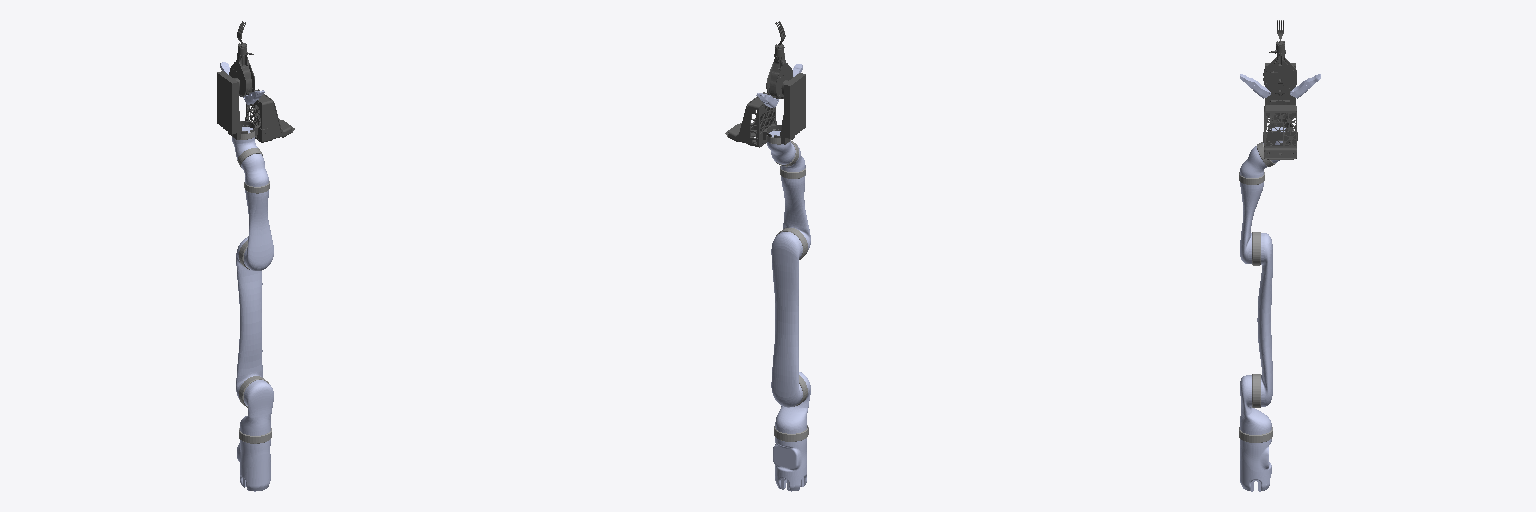
--- What the picture shows (computed from the rendered views, not written in the file) ---
Views: 3 orthographic renders of the robot side by side, from view 1: azimuth 30°, elevation 25°; view 2: azimuth 150°, elevation 25°; view 3: azimuth 270°, elevation 25°.
Robot: ada — 29 links, 28 joints (4 revolute, 4 continuous, 20 fixed); root link root; default pose: joints at zero except 2 at the middle of their limits (j2n6s200_joint_2 = 3.14, j2n6s200_joint_3 = 3.14).
Links seen in each view (by area): view 1: j2n6s200_link_2, j2n6s200_link_3, j2n6s200_link_1, j2n6s200_link_base, FT, j2n6s200_link_4, enclosureBottom, forkHandle; view 2: j2n6s200_link_2, j2n6s200_link_base, j2n6s200_link_3, FT, j2n6s200_link_1, forkHandle, enclosureTop, j2n6s200_link_5; view 3: j2n6s200_link_2, j2n6s200_link_base, j2n6s200_link_1, j2n6s200_link_3, forkHandle, j2n6s200_link_4, enclosureBottom.
Link boxes in pixels (x1,y1,x2,y2): j2n6s200_link_2: (236, 237, 268, 407); j2n6s200_link_3: (239, 190, 273, 270); j2n6s200_link_1: (239, 380, 273, 443); j2n6s200_link_base: (237, 439, 270, 491); FT: (217, 71, 238, 133); j2n6s200_link_4: (241, 154, 269, 193); enclosureBottom: (246, 90, 272, 142); forkHandle: (229, 53, 254, 96); j2n6s200_link_2: (771, 232, 807, 407); j2n6s200_link_base: (773, 437, 806, 491); j2n6s200_link_3: (776, 175, 810, 259); FT: (784, 73, 805, 138); j2n6s200_link_1: (774, 372, 810, 441); forkHandle: (766, 53, 792, 98); enclosureTop: (737, 92, 771, 144); j2n6s200_link_5: (767, 131, 798, 166); j2n6s200_link_2: (1252, 233, 1272, 407); j2n6s200_link_base: (1240, 439, 1271, 491); j2n6s200_link_1: (1239, 375, 1272, 442); j2n6s200_link_3: (1240, 182, 1263, 265); forkHandle: (1263, 50, 1296, 95); j2n6s200_link_4: (1239, 146, 1266, 184); enclosureBottom: (1264, 105, 1296, 145).
Bounding box of the posed robot: 0.2007 × 0.215 × 1.34 m (x, y, z).
26 mesh visuals loaded from 22 distinct referenced files (10 binary STL, 9 Collada DAE); not drawn: 3 (reference not matched to a file when rendering).

robot.urdf — ada:
<?xml version="1.0" ?>
<!-- =================================================================================== -->
<!-- |    This document was autogenerated by xacro from [local-path]/Workspace/cal_ws/src/ada_ros2/ada_description/urdf/ada.xacro | -->
<!-- |    EDITING THIS FILE BY HAND IS NOT RECOMMENDED                                 | -->
<!-- =================================================================================== -->
<robot name="ada" xmlns:body="http://playerstage.sourceforge.net/gazebo/xmlschema/#body" xmlns:controller="http://playerstage.sourceforge.net/gazebo/xmlschema/#controller" xmlns:gazebo="http://playerstage.sourceforge.net/gazebo/xmlschema/#gz" xmlns:geom="http://playerstage.sourceforge.net/gazebo/xmlschema/#geom" xmlns:interface="http://playerstage.sourceforge.net/gazebo/xmlschema/#interface" xmlns:joint="http://playerstage.sourceforge.net/gazebo/xmlschema/#joint" xmlns:model="http://playerstage.sourceforge.net/gazebo/xmlschema/#model" xmlns:physics="http://playerstage.sourceforge.net/gazebo/xmlschema/#physics" xmlns:renderable="http://playerstage.sourceforge.net/gazebo/xmlschema/#renderable" xmlns:rendering="http://playerstage.sourceforge.net/gazebo/xmlschema/#rendering" xmlns:sensor="http://playerstage.sourceforge.net/gazebo/xmlschema/#sensor" xmlns:xi="http://www.w3.org/2001/XInclude">
    <material name="aluminum">
        <color rgba="0.4 0.4 0.4 1" />
    </material>
    <material name="plastic">
        <color rgba="0.1 0.1 0.1 1" />
    </material>
    <!-- links      		mesh_no
   base           		0
   shoulder       		1
   arm            		2
   forearm        		3
   wrist          		4
   arm_mico       		5
   arm_half1 (7dof)		6
   arm_half2 (7dof)		7
   wrist_spherical_1  8
   wrist_spherical_2  9

   hand 3 finger  		55
   hand_2finger   		56
   finger_proximal		57
   finger_distal      58
-->
    <!-- links      		mesh_no
   base           		0
   shoulder       		1
   arm            		2
   forearm        		3
   wrist          		4
   arm_mico       		5
   arm_half1 (7dof)		6
   arm_half2 (7dof)		7
   wrist_spherical_1  8
   wrist_spherical_2  9

   hand 3 finger  		55
   hand_2finger   		56
   finger_proximal		57
   finger_distal      58
-->
    <link name="root" />
    <!-- ros_control plugin -->
    <gazebo>
        <plugin filename="libgazebo_ros_control.so" name="gazebo_ros_control">
            <robotNamespace>j2n6s200</robotNamespace>
            <robotSimType>gazebo_ros_control/DefaultRobotHWSim</robotSimType>
            <legacyModeNS>true</legacyModeNS>
        </plugin>
    </gazebo>
    <link name="j2n6s200_link_base">
        <visual>
            <geometry>
                <mesh filename="package://ada_description/meshes/base.dae" />
            </geometry>
            <material name="carbon_fiber">
                <color rgba="0.792156862745098 0.819607843137255 0.933333333333333 1" />
            </material>
        </visual>
        <collision>
            <geometry>
                <mesh filename="package://ada_description/meshes/base.dae" />
            </geometry>
        </collision>
        <inertial>
            <mass value="0.46784" />
            <origin rpy="0 0 0" xyz="0 0 0.1255" />
            <inertia ixx="0.000951270861568" ixy="0" ixz="0" iyy="0.000951270861568" iyz="0" izz="0.00037427200000000004" />
        </inertial>
    </link>
    <joint name="j2n6s200_joint_base" type="fixed">
        <parent link="root" />
        <child link="j2n6s200_link_base" />
        <axis xyz="0 0 0" />
        <origin rpy="0 0 0" xyz="0 0 0" />
        <dynamics damping="0.0" friction="0.0" />
    </joint>
    <link name="j2n6s200_link_1">
        <visual>
            <geometry>
                <mesh filename="package://ada_description/meshes/shoulder.dae" />
            </geometry>
            <material name="carbon_fiber">
                <color rgba="0.792156862745098 0.819607843137255 0.933333333333333 1" />
            </material>
        </visual>
        <visual>
            <geometry>
                <mesh filename="package://ada_description/meshes/ring_big.dae" />
            </geometry>
        </visual>
        <collision>
            <geometry>
                <mesh filename="package://ada_description/meshes/shoulder.dae" />
            </geometry>
        </collision>
        <inertial>
            <mass value="0.7477" />
            <origin xyz="0 -0.002 -0.0605" rpy="0 0 0" />
            <inertia ixx="0.0015203172520400004" ixy="0" ixz="0" iyy="0.0015203172520400004" iyz="0" izz="0.00059816" />
        </inertial>
    </link>
    <joint name="j2n6s200_joint_1" type="continuous">
        <parent link="j2n6s200_link_base" />
        <child link="j2n6s200_link_1" />
        <axis xyz="0 0 1" />
        <limit effort="40" velocity="0.6283185307179586" />
        <origin rpy="0 3.141592653589793 0" xyz="0 0 0.15675" />
        <dynamics damping="0.0" friction="0.0" />
    </joint>
    <transmission name="j2n6s200_joint_1_trans">
        <type>transmission_interface/SimpleTransmission</type>
        <joint name="j2n6s200_joint_1">
            <hardwareInterface>hardware_interface/EffortJointInterface</hardwareInterface>
        </joint>
        <actuator name="j2n6s200_joint_1_actuator">
            <hardwareInterface>hardware_interface/EffortJointInterface</hardwareInterface>
            <mechanicalReduction>160</mechanicalReduction>
        </actuator>
    </transmission>
    <!--For torque sensing in simulation-->
    <gazebo reference="j2n6s200_joint_1">
        <provideFeedback>true</provideFeedback>
    </gazebo>
    <gazebo>
        <plugin filename="libgazebo_ros_ft_sensor.so" name="ft_sensor">
            <updateRate>30.0</updateRate>
            <topicName>j2n6s200_joint_1_ft_sensor_topic</topicName>
            <jointName>j2n6s200_joint_1</jointName>
        </plugin>
    </gazebo>
    <link name="j2n6s200_link_2">
        <visual>
            <geometry>
                <mesh filename="package://ada_description/meshes/arm.dae" />
            </geometry>
            <material name="carbon_fiber">
                <color rgba="0.792156862745098 0.819607843137255 0.933333333333333 1" />
            </material>
        </visual>
        <visual>
            <geometry>
                <mesh filename="package://ada_description/meshes/ring_big.dae" />
            </geometry>
        </visual>
        <collision>
            <geometry>
                <mesh filename="package://ada_description/meshes/arm.dae" />
            </geometry>
        </collision>
        <inertial>
            <mass value="0.99" />
            <origin xyz="0 -0.2065 -0.01" rpy="0 0 0" />
            <inertia ixx="0.010502207990999999" ixy="0" ixz="0" iyy="0.0007920000000000001" iyz="0" izz="0.010502207990999999" />
        </inertial>
    </link>
    <joint name="j2n6s200_joint_2" type="revolute">
        <parent link="j2n6s200_link_1" />
        <child link="j2n6s200_link_2" />
        <axis xyz="0 0 1" />
        <limit effort="80" lower="0.8203047484373349" upper="5.462880558742252" velocity="0.6283185307179586" />
        <origin rpy="-1.5707963267948966 0 3.141592653589793" xyz="0 0.0016 -0.11875" />
        <dynamics damping="0.0" friction="0.0" />
    </joint>
    <transmission name="j2n6s200_joint_2_trans">
        <type>transmission_interface/SimpleTransmission</type>
        <joint name="j2n6s200_joint_2">
            <hardwareInterface>hardware_interface/EffortJointInterface</hardwareInterface>
        </joint>
        <actuator name="j2n6s200_joint_2_actuator">
            <hardwareInterface>hardware_interface/EffortJointInterface</hardwareInterface>
            <mechanicalReduction>160</mechanicalReduction>
        </actuator>
    </transmission>
    <!--For torque sensing in simulation-->
    <gazebo reference="j2n6s200_joint_2">
        <provideFeedback>true</provideFeedback>
    </gazebo>
    <gazebo>
        <plugin filename="libgazebo_ros_ft_sensor.so" name="ft_sensor">
            <updateRate>30.0</updateRate>
            <topicName>j2n6s200_joint_2_ft_sensor_topic</topicName>
            <jointName>j2n6s200_joint_2</jointName>
        </plugin>
    </gazebo>
    <link name="j2n6s200_link_3">
        <visual>
            <geometry>
                <mesh filename="package://ada_description/meshes/forearm.dae" />
            </geometry>
            <material name="carbon_fiber">
                <color rgba="0.792156862745098 0.819607843137255 0.933333333333333 1" />
            </material>
        </visual>
        <visual>
            <geometry>
                <mesh filename="package://ada_description/meshes/ring_big.dae" />
            </geometry>
        </visual>
        <collision>
            <geometry>
                <mesh filename="package://ada_description/meshes/forearm.dae" />
            </geometry>
        </collision>
        <inertial>
            <mass value="0.6763" />
            <origin xyz="0 0.081 -0.0086" rpy="0 0 0" />
            <inertia ixx="0.0014202243190800001" ixy="0" ixz="0" iyy="0.000304335" iyz="0" izz="0.0014202243190800001" />
        </inertial>
    </link>
    <joint name="j2n6s200_joint_3" type="revolute">
        <parent link="j2n6s200_link_2" />
        <child link="j2n6s200_link_3" />
        <axis xyz="0 0 1" />
        <limit effort="40" lower="0.33161255787892263" upper="5.951572749300664" velocity="0.6283185307179586" />
        <origin rpy="0 3.141592653589793 0" xyz="0 -0.410 0" />
        <dynamics damping="0.0" friction="0.0" />
    </joint>
    <transmission name="j2n6s200_joint_3_trans">
        <type>transmission_interface/SimpleTransmission</type>
        <joint name="j2n6s200_joint_3">
            <hardwareInterface>hardware_interface/EffortJointInterface</hardwareInterface>
        </joint>
        <actuator name="j2n6s200_joint_3_actuator">
            <hardwareInterface>hardware_interface/EffortJointInterface</hardwareInterface>
            <mechanicalReduction>160</mechanicalReduction>
        </actuator>
    </transmission>
    <!--For torque sensing in simulation-->
    <gazebo reference="j2n6s200_joint_3">
        <provideFeedback>true</provideFeedback>
    </gazebo>
    <gazebo>
        <plugin filename="libgazebo_ros_ft_sensor.so" name="ft_sensor">
            <updateRate>30.0</updateRate>
            <topicName>j2n6s200_joint_3_ft_sensor_topic</topicName>
            <jointName>j2n6s200_joint_3</jointName>
        </plugin>
    </gazebo>
    <link name="j2n6s200_link_4">
        <visual>
            <geometry>
                <mesh filename="package://ada_description/meshes/wrist.dae" />
            </geometry>
            <material name="carbon_fiber">
                <color rgba="0.792156862745098 0.819607843137255 0.933333333333333 1" />
            </material>
        </visual>
        <visual>
            <geometry>
                <mesh filename="package://ada_description/meshes/ring_small.dae" />
            </geometry>
        </visual>
        <collision>
            <geometry>
                <mesh filename="package://ada_description/meshes/wrist.dae" />
            </geometry>
        </collision>
        <inertial>
            <mass value="0.426367" />
            <origin xyz="0 -0.037 -0.0642" rpy="0 0 0" />
            <inertia ixx="7.734969059999999e-05" ixy="0" ixz="0" iyy="7.734969059999999e-05" iyz="0" izz="0.0001428" />
        </inertial>
    </link>
    <joint name="j2n6s200_joint_4" type="continuous">
        <parent link="j2n6s200_link_3" />
        <child link="j2n6s200_link_4" />
        <axis xyz="0 0 1" />
        <limit effort="20" velocity="0.8377580409572781" />
        <origin rpy="-1.5707963267948966 0 3.141592653589793" xyz="0 0.2073 -0.0114" />
        <dynamics damping="0.0" friction="0.0" />
    </joint>
    <transmission name="j2n6s200_joint_4_trans">
        <type>transmission_interface/SimpleTransmission</type>
        <joint name="j2n6s200_joint_4">
            <hardwareInterface>hardware_interface/EffortJointInterface</hardwareInterface>
        </joint>
        <actuator name="j2n6s200_joint_4_actuator">
            <hardwareInterface>hardware_interface/EffortJointInterface</hardwareInterface>
            <mechanicalReduction>160</mechanicalReduction>
        </actuator>
    </transmission>
    <!--For torque sensing in simulation-->
    <gazebo reference="j2n6s200_joint_4">
        <provideFeedback>true</provideFeedback>
    </gazebo>
    <gazebo>
        <plugin filename="libgazebo_ros_ft_sensor.so" name="ft_sensor">
            <updateRate>30.0</updateRate>
            <topicName>j2n6s200_joint_4_ft_sensor_topic</topicName>
            <jointName>j2n6s200_joint_4</jointName>
        </plugin>
    </gazebo>
    <link name="j2n6s200_link_5">
        <visual>
            <geometry>
                <mesh filename="package://ada_description/meshes/wrist.dae" />
            </geometry>
            <material name="carbon_fiber">
                <color rgba="0.792156862745098 0.819607843137255 0.933333333333333 1" />
            </material>
        </visual>
        <visual>
            <geometry>
                <mesh filename="package://ada_description/meshes/ring_small.dae" />
            </geometry>
        </visual>
        <collision>
            <geometry>
                <mesh filename="package://ada_description/meshes/wrist.dae" />
            </geometry>
        </collision>
        <inertial>
            <mass value="0.426367" />
            <origin xyz="0 -0.037 -0.0642" rpy="0 0 0" />
            <inertia ixx="7.734969059999999e-05" ixy="0" ixz="0" iyy="7.734969059999999e-05" iyz="0" izz="0.0001428" />
        </inertial>
    </link>
    <joint name="j2n6s200_joint_5" type="continuous">
        <parent link="j2n6s200_link_4" />
        <child link="j2n6s200_link_5" />
        <axis xyz="0 0 1" />
        <limit effort="20" velocity="0.8377580409572781" />
        <origin rpy="1.0471975511965976 0 3.141592653589793" xyz="0 -0.03703 -0.06414" />
        <dynamics damping="0.0" friction="0.0" />
    </joint>
    <transmission name="j2n6s200_joint_5_trans">
        <type>transmission_interface/SimpleTransmission</type>
        <joint name="j2n6s200_joint_5">
            <hardwareInterface>hardware_interface/EffortJointInterface</hardwareInterface>
        </joint>
        <actuator name="j2n6s200_joint_5_actuator">
            <hardwareInterface>hardware_interface/EffortJointInterface</hardwareInterface>
            <mechanicalReduction>160</mechanicalReduction>
        </actuator>
    </transmission>
    <!--For torque sensing in simulation-->
    <gazebo reference="j2n6s200_joint_5">
        <provideFeedback>true</provideFeedback>
    </gazebo>
    <gazebo>
        <plugin filename="libgazebo_ros_ft_sensor.so" name="ft_sensor">
            <updateRate>30.0</updateRate>
            <topicName>j2n6s200_joint_5_ft_sensor_topic</topicName>
            <jointName>j2n6s200_joint_5</jointName>
        </plugin>
    </gazebo>
    <link name="j2n6s200_link_6">
        <visual>
            <geometry>
                <mesh filename="package://ada_description/meshes/hand_2finger.dae" />
            </geometry>
            <material name="carbon_fiber">
                <color rgba="0.792156862745098 0.819607843137255 0.933333333333333 1" />
            </material>
        </visual>
        <visual>
            <geometry>
                <mesh filename="package://ada_description/meshes/ring_small.dae" />
            </geometry>
        </visual>
        <collision>
            <geometry>
                <mesh filename="package://ada_description/meshes/hand_2finger.dae" />
            </geometry>
        </collision>
        <inertial>
            <mass value="0.78" />
            <origin xyz="0 0 -0.06" rpy="0 0 0" />
            <inertia ixx="0.00037049851799999997" ixy="0" ixz="0" iyy="0.00037049851799999997" iyz="0" izz="0.0006240000000000001" />
        </inertial>
    </link>
    <joint name="j2n6s200_joint_6" type="continuous">
        <parent link="j2n6s200_link_5" />
        <child link="j2n6s200_link_6" />
        <axis xyz="0 0 1" />
        <limit effort="20" velocity="0.8377580409572781" />
        <origin rpy="1.0471975511965976 0 3.141592653589793" xyz="0 -0.03703 -0.06414" />
        <dynamics damping="0.0" friction="0.0" />
    </joint>
    <transmission name="j2n6s200_joint_6_trans">
        <type>transmission_interface/SimpleTransmission</type>
        <joint name="j2n6s200_joint_6">
            <hardwareInterface>hardware_interface/EffortJointInterface</hardwareInterface>
        </joint>
        <actuator name="j2n6s200_joint_6_actuator">
            <hardwareInterface>hardware_interface/EffortJointInterface</hardwareInterface>
            <mechanicalReduction>160</mechanicalReduction>
        </actuator>
    </transmission>
    <!--For torque sensing in simulation-->
    <gazebo reference="j2n6s200_joint_6">
        <provideFeedback>true</provideFeedback>
    </gazebo>
    <gazebo>
        <plugin filename="libgazebo_ros_ft_sensor.so" name="ft_sensor">
            <updateRate>30.0</updateRate>
            <topicName>j2n6s200_joint_6_ft_sensor_topic</topicName>
            <jointName>j2n6s200_joint_6</jointName>
        </plugin>
    </gazebo>
    <link name="j2n6s200_end_effector" />
    <joint name="j2n6s200_joint_end_effector" type="fixed">
        <parent link="j2n6s200_link_6" />
        <child link="j2n6s200_end_effector" />
        <axis xyz="0 0 0" />
        <origin rpy="3.141592653589793 0 1.5707963267948966" xyz="0 0 -0.1600" />
    </joint>
    <link name="j2n6s200_link_finger_1">
        <visual>
            <geometry>
                <mesh filename="package://ada_description/meshes/finger_proximal.dae" />
            </geometry>
            <material name="carbon_fiber">
                <color rgba="0.792156862745098 0.819607843137255 0.933333333333333 1" />
            </material>
        </visual>
        <collision>
            <geometry>
                <mesh filename="package://ada_description/meshes/finger_proximal.dae" />
            </geometry>
        </collision>
        <inertial>
            <mass value="0.01" />
            <origin xyz="0.022 0 0" rpy="0 0 0" />
            <inertia ixx="7.8999684e-07" ixy="0" ixz="0" iyy="7.8999684e-07" iyz="0" izz="8e-08" />
        </inertial>
    </link>
    <joint name="j2n6s200_joint_finger_1" type="revolute">
        <parent link="j2n6s200_link_6" />
        <child link="j2n6s200_link_finger_1" />
        <axis xyz="0 0 1" />
        <origin rpy="-1.570796327 .649262481663582 1.57079632679490" xyz="-0.0025 0.03095 -0.11482" />
        <limit effort="2" lower="0" upper="1.51" velocity="1" />
    </joint>
    <transmission name="j2n6s200_joint_finger_1_trans">
        <type>transmission_interface/SimpleTransmission</type>
        <joint name="j2n6s200_joint_finger_1">
            <hardwareInterface>hardware_interface/EffortJointInterface</hardwareInterface>
        </joint>
        <actuator name="j2n6s200_joint_finger_1_actuator">
            <hardwareInterface>hardware_interface/EffortJointInterface</hardwareInterface>
            <mechanicalReduction>1</mechanicalReduction>
        </actuator>
    </transmission>
    <link name="j2n6s200_link_finger_tip_1">
        <visual>
            <geometry>
                <mesh filename="package://ada_description/meshes/finger_distal.dae" />
            </geometry>
            <material name="carbon_fiber">
                <color rgba="0.792156862745098 0.819607843137255 0.933333333333333 1" />
            </material>
        </visual>
        <collision>
            <geometry>
                <mesh filename="package://ada_description/meshes/finger_distal.dae" />
            </geometry>
        </collision>
        <inertial>
            <mass value="0.01" />
            <origin xyz="0.022 0 0" rpy="0 0 0" />
            <inertia ixx="7.8999684e-07" ixy="0" ixz="0" iyy="7.8999684e-07" iyz="0" izz="8e-08" />
        </inertial>
    </link>
    <joint name="j2n6s200_joint_finger_tip_1" type="fixed">
        <parent link="j2n6s200_link_finger_1" />
        <child link="j2n6s200_link_finger_tip_1" />
        <axis xyz="0 0 1" />
        <origin rpy="0 0 0" xyz="0.044 -0.003 0" />
        <limit effort="2" lower="0" upper="2" velocity="1" />
    </joint>
    <transmission name="j2n6s200_joint_finger_tip_1_trans">
        <type>transmission_interface/SimpleTransmission</type>
        <joint name="j2n6s200_joint_finger_tip_1">
            <hardwareInterface>hardware_interface/EffortJointInterface</hardwareInterface>
        </joint>
        <actuator name="j2n6s200_joint_finger_tip_1_actuator">
            <hardwareInterface>hardware_interface/EffortJointInterface</hardwareInterface>
            <mechanicalReduction>1</mechanicalReduction>
        </actuator>
    </transmission>
    <link name="j2n6s200_link_finger_2">
        <visual>
            <geometry>
                <mesh filename="package://ada_description/meshes/finger_proximal.dae" />
            </geometry>
            <material name="carbon_fiber">
                <color rgba="0.792156862745098 0.819607843137255 0.933333333333333 1" />
            </material>
        </visual>
        <collision>
            <geometry>
                <mesh filename="package://ada_description/meshes/finger_proximal.dae" />
            </geometry>
        </collision>
        <inertial>
            <mass value="0.01" />
            <origin xyz="0.022 0 0" rpy="0 0 0" />
            <inertia ixx="7.8999684e-07" ixy="0" ixz="0" iyy="7.8999684e-07" iyz="0" izz="8e-08" />
        </inertial>
    </link>
    <joint name="j2n6s200_joint_finger_2" type="revolute">
        <parent link="j2n6s200_link_6" />
        <child link="j2n6s200_link_finger_2" />
        <axis xyz="0 0 1" />
        <origin rpy="-1.570796327 .649262481663582 -1.57079632679490" xyz="-0.0025 -0.03095 -0.11482" />
        <limit effort="2" lower="0" upper="1.51" velocity="1" />
    </joint>
    <transmission name="j2n6s200_joint_finger_2_trans">
        <type>transmission_interface/SimpleTransmission</type>
        <joint name="j2n6s200_joint_finger_2">
            <hardwareInterface>hardware_interface/EffortJointInterface</hardwareInterface>
        </joint>
        <actuator name="j2n6s200_joint_finger_2_actuator">
            <hardwareInterface>hardware_interface/EffortJointInterface</hardwareInterface>
            <mechanicalReduction>1</mechanicalReduction>
        </actuator>
    </transmission>
    <link name="j2n6s200_link_finger_tip_2">
        <visual>
            <geometry>
                <mesh filename="package://ada_description/meshes/finger_distal.dae" />
            </geometry>
            <material name="carbon_fiber">
                <color rgba="0.792156862745098 0.819607843137255 0.933333333333333 1" />
            </material>
        </visual>
        <collision>
            <geometry>
                <mesh filename="package://ada_description/meshes/finger_distal.dae" />
            </geometry>
        </collision>
        <inertial>
            <mass value="0.01" />
            <origin xyz="0.022 0 0" rpy="0 0 0" />
            <inertia ixx="7.8999684e-07" ixy="0" ixz="0" iyy="7.8999684e-07" iyz="0" izz="8e-08" />
        </inertial>
    </link>
    <joint name="j2n6s200_joint_finger_tip_2" type="fixed">
        <parent link="j2n6s200_link_finger_2" />
        <child link="j2n6s200_link_finger_tip_2" />
        <axis xyz="0 0 1" />
        <origin rpy="0 0 0" xyz="0.044 -0.003 0" />
        <limit effort="2" lower="0" upper="2" velocity="1" />
    </joint>
    <transmission name="j2n6s200_joint_finger_tip_2_trans">
        <type>transmission_interface/SimpleTransmission</type>
        <joint name="j2n6s200_joint_finger_tip_2">
            <hardwareInterface>hardware_interface/EffortJointInterface</hardwareInterface>
        </joint>
        <actuator name="j2n6s200_joint_finger_tip_2_actuator">
            <hardwareInterface>hardware_interface/EffortJointInterface</hardwareInterface>
            <mechanicalReduction>1</mechanicalReduction>
        </actuator>
    </transmission>
    <link name="nanoMount">
        <visual>
            <geometry>
                <mesh filename="package://ada_description/meshes/camera/2023_03_09_nanoArmMount.stl" scale="0.001 0.001 0.001" />
            </geometry>
            <material name="abs">
                <color rgba="0.4 0.4 0.4 1" />
            </material>
        </visual>
        <collision>
            <geometry>
                <mesh filename="package://ada_description/meshes/camera/2023_03_09_nanoArmMount.stl" scale="0.001 0.001 0.001" />
            </geometry>
        </collision>
        <inertial>
            <origin rpy="0 0 0" xyz="-0.002400 0.0046958 0.0115245" />
            <mass value="0.008" />
            <inertia ixx="0.001" ixy="0.001" ixz="0.001" iyy="0.001" iyz="0.001" izz="0.001" />
        </inertial>
    </link>
    <joint name="nanoMount_to_world" type="fixed">
        <parent link="j2n6s200_link_6" />
        <child link="nanoMount" />
        <axis xyz="0 0 1" />
        <origin rpy="4.71238898038469 0 4.71238898038469" xyz="0.0165 0 0.0011" />
    </joint>
    <link name="enclosureBottom">
        <visual>
            <geometry>
                <mesh filename="package://ada_description/meshes/camera/2023_03_16_nanoEnclosureBottom.stl" scale="0.001 0.001 0.001" />
            </geometry>
            <material name="abs">
                <color rgba="0.4 0.4 0.4 1" />
            </material>
        </visual>
        <collision>
            <geometry>
                <mesh filename="package://ada_description/meshes/camera/2023_03_16_nanoEnclosureBottom.stl" scale="0.001 0.001 0.001" />
            </geometry>
        </collision>
        <inertial>
            <origin rpy="0 0 0" xyz="0.0546451 0.0472161 0.00043655" />
            <mass value="0.04" />
            <inertia ixx="0.001" ixy="0.001" ixz="0.001" iyy="0.001" iyz="0.001" izz="0.001" />
        </inertial>
    </link>
    <joint name="enclosureBottom_to_nanoMount" type="fixed">
        <parent link="nanoMount" />
        <child link="enclosureBottom" />
        <axis xyz="0 0 1" />
        <origin rpy="0 0 1.5707963267948966" xyz="0.0412 -0.0218 0.026" />
    </joint>
    <link name="nano">
        <visual>
            <geometry>
                <mesh filename="package://ada_description/meshes/camera/2023_03_21_jetsonNano.stl" scale="0.001 0.001 0.001" />
            </geometry>
            <material name="abs">
                <color rgba="0.4 0.4 0.4 1" />
            </material>
        </visual>
        <collision>
            <geometry>
                <mesh filename="package://ada_description/meshes/camera/2023_03_21_jetsonNano.stl" scale="0.001 0.001 0.001" />
            </geometry>
        </collision>
        <inertial>
            <origin rpy="0 0 0" xyz="0.0435615 0.02502709 0.0091247" />
            <mass value="0.142" />
            <inertia ixx="0.001" ixy="0.001" ixz="0.001" iyy="0.001" iyz="0.001" izz="0.001" />
        </inertial>
    </link>
    <joint name="nano_to_enclosureBottom" type="fixed">
        <parent link="enclosureBottom" />
        <child link="nano" />
        <axis xyz="0 0 1" />
        <origin rpy="0 0 0" xyz="0.0105 0.014 -0.0015" />
    </joint>
    <link name="enclosureTop">
        <visual>
            <geometry>
                <mesh filename="package://ada_description/meshes/camera/2023_06_06_nanoEnclosureTopCameraBack.stl" scale="0.001 0.001 0.001" />
            </geometry>
            <material name="abs">
                <color rgba="0.4 0.4 0.4 1" />
            </material>
        </visual>
        <collision>
            <geometry>
                <mesh filename="package://ada_description/meshes/camera/2023_06_06_nanoEnclosureTopCameraBack.stl" scale="0.001 0.001 0.001" />
            </geometry>
        </collision>
        <inertial>
            <origin rpy="0 0 0" xyz="0.04817211 0.03496864 0.02671124" />
            <mass value="0.046" />
            <inertia ixx="0.001" ixy="0.001" ixz="0.001" iyy="0.001" iyz="0.001" izz="0.001" />
        </inertial>
    </link>
    <joint name="enclosureTop_to_enclosureBottom" type="fixed">
        <parent link="enclosureBottom" />
        <child link="enclosureTop" />
        <axis xyz="0 0 1" />
        <origin rpy="0 2.886774582798621 3.141592653589793" xyz="0.009925 0.04099 0.05442" />
    </joint>
    <link name="cameraMount">
        <visual>
            <geometry>
                <mesh filename="package://ada_description/meshes/camera/2023_06_06_cameraBackMount.stl" scale="0.001 0.001 0.001" />
            </geometry>
            <material name="abs">
                <color rgba="0.4 0.4 0.4 1" />
            </material>
        </visual>
        <collision>
            <geometry>
                <mesh filename="package://ada_description/meshes/camera/2023_06_06_cameraBackMount.stl" scale="0.001 0.001 0.001" />
            </geometry>
        </collision>
        <inertial>
            <origin rpy="0 0 0" xyz="0.00272454 0.00000231884 0.00514249" />
            <mass value="0.004" />
            <inertia ixx="0.001" ixy="0.001" ixz="0.001" iyy="0.001" iyz="0.001" izz="0.001" />
        </inertial>
    </link>
    <joint name="cameraMount_to_enclosureTop" type="fixed">
        <parent link="enclosureTop" />
        <child link="cameraMount" />
        <axis xyz="0 0 1" />
        <origin rpy="0 1.5707963267948966 0" xyz="-0.0132 0 -0.022" />
    </joint>
    <!-- camera body, with origin at bottom screw mount -->
    <joint name="uncalibrated_camera_joint" type="fixed">
        <origin rpy="0 -1.5707963267948966 3.141592653589793" xyz="0.006 0 0.013" />
        <parent link="cameraMount" />
        <child link="uncalibrated_camera_bottom_screw_frame" />
    </joint>
    <link name="uncalibrated_camera_bottom_screw_frame" />
    <joint name="uncalibrated_camera_link_joint" type="fixed">
        <origin rpy="0 0 0" xyz="0 0.02 0.0115" />
        <parent link="uncalibrated_camera_bottom_screw_frame" />
        <child link="uncalibrated_camera_link" />
    </joint>
    <link name="uncalibrated_camera_link">
        <visual>
            <origin rpy="1.5707963267948966 0 1.5707963267948966" xyz="0.00987 -0.02 0" />
            <geometry>
                <mesh filename="package://ada_description/meshes/camera/d415.stl" />
            </geometry>
            <material name="aluminum" />
        </visual>
        <collision>
            <origin rpy="0 0 0" xyz="0 -0.02 0" />
            <geometry>
                <box size="0.02005 0.099 0.023" />
            </geometry>
        </collision>
        <inertial>
            <mass value="0.072" />
            <!-- The following are not reliable values, and should not be used for modeling -->
            <origin xyz="0 0 0" rpy="0 0 0" />
            <inertia ixx="0.003881243" ixy="0.0" ixz="0.0" iyy="0.000498940" iyz="0.0" izz="0.003879257" />
        </inertial>
    </link>
    <!-- Hard-coded Extrinsics -->
    <link name="camera_link" />
    <joint name="extrinsics" type="fixed">
        <origin rpy="-0.039 0.100 -0.007" xyz="0.023 0.055 0.005" />
        <parent link="cameraMount" />
        <child link="camera_link" />
    </joint>
    <!-- Copy Realsense in case of simulation -->
    <!--
  <link name="camera_color_optical_frame" />
  <joint name="optical_republish" type="fixed">
    <origin xyz="0.000 -0.015 0.000" rpy="-1.564 0.000 -1.573" />
    <parent link="camera_link" />
    <child link="camera_color_optical_frame" />
  </joint>
  -->
    <link name="FTArmMount">
        <visual>
            <geometry>
                <mesh filename="package://ada_description/meshes/forque/2023_03_09_FTArmMount.stl" scale="0.001 0.001 0.001" />
            </geometry>
            <material name="abs">
                <color rgba="0.4 0.4 0.4 1" />
            </material>
        </visual>
        <collision>
            <geometry>
                <mesh filename="package://ada_description/meshes/forque/2023_03_09_FTArmMount.stl" scale="0.001 0.001 0.001" />
            </geometry>
        </collision>
        <inertial>
            <origin rpy="0 0 0" xyz="0.011184837 -0.024537498 -0.035437509" />
            <mass value="0.0025" />
            <inertia ixx="0.001" ixy="0.001" ixz="0.001" iyy="0.001" iyz="0.001" izz="0.001" />
        </inertial>
    </link>
    <joint name="FTArmMount_to_arm" type="fixed">
        <parent link="j2n6s200_link_6" />
        <child link="FTArmMount" />
        <axis xyz="0 0 1" />
        <origin rpy="1.5707963267948966 0 1.5707963267948966" xyz="0.0065 -0.011 -0.0075" />
    </joint>
    <link name="FTMount">
        <visual>
            <geometry>
                <mesh filename="package://ada_description/meshes/forque/2023_03_09_FTMount.stl" scale="0.001 0.001 0.001" />
            </geometry>
            <material name="abs">
                <color rgba="0.4 0.4 0.4 1" />
            </material>
        </visual>
        <collision>
            <geometry>
                <mesh filename="package://ada_description/meshes/forque/2023_03_09_FTMount.stl" scale="0.001 0.001 0.001" />
            </geometry>
        </collision>
        <inertial>
            <origin rpy="0 0 0" xyz="0.0111797 -0.110193 -0.0384312" />
            <mass value="0.022" />
            <inertia ixx="0.001" ixy="0.001" ixz="0.001" iyy="0.001" iyz="0.001" izz="0.001" />
        </inertial>
    </link>
    <joint name="FTMount_to_world" type="fixed">
        <parent link="FTArmMount" />
        <child link="FTMount" />
        <axis xyz="0 0 1" />
        <origin rpy="0 0 0" xyz="0 0 0" />
    </joint>
    <link name="FT">
        <visual>
            <geometry>
                <mesh filename="package://ada_description/meshes/forque/2023_03_09_wirelessFT.stl" scale="0.001 0.001 0.001" />
            </geometry>
            <material name="abs">
                <color rgba="0.4 0.4 0.4 1" />
            </material>
        </visual>
        <collision>
            <geometry>
                <mesh filename="package://ada_description/meshes/forque/2023_03_09_wirelessFT.stl" scale="0.001 0.001 0.001" />
            </geometry>
        </collision>
        <inertial>
            <origin rpy="0 0 0" xyz="0.0111446 -0.0882070 -0.0544936" />
            <mass value="0.28" />
            <inertia ixx="0.001" ixy="0.001" ixz="0.001" iyy="0.001" iyz="0.001" izz="0.001" />
        </inertial>
    </link>
    <joint name="FT_to_FTMount" type="fixed">
        <parent link="FTMount" />
        <child link="FT" />
        <axis xyz="0 0 1" />
        <origin rpy="0 0 0" xyz="0 0 0" />
    </joint>
    <link name="forkHandle">
        <visual>
            <geometry>
                <mesh filename="package://ada_description/meshes/forque/2023_03_09_forkHandle.stl" scale="0.001 0.001 0.001" />
            </geometry>
            <material name="abs">
                <color rgba="0.4 0.4 0.4 1" />
            </material>
        </visual>
        <collision>
            <geometry>
                <mesh filename="package://ada_description/meshes/forque/2023_03_09_forkHandle.stl" scale="0.001 0.001 0.001" />
            </geometry>
        </collision>
        <inertial>
            <origin rpy="0 0 0" xyz="0.0110024 -0.151715 -0.00934664" />
            <mass value="0.0506" />
            <inertia ixx="0.001" ixy="0.001" ixz="0.001" iyy="0.001" iyz="0.001" izz="0.001" />
        </inertial>
    </link>
    <joint name="forkHandle_to_FTMount" type="fixed">
        <parent link="FTMount" />
        <child link="forkHandle" />
        <axis xyz="0 0 1" />
        <origin rpy="0 0 0" xyz="0 0 0" />
    </joint>
    <link name="forque">
        <visual>
            <geometry>
                <mesh filename="package://ada_description/meshes/forque/ATI-9105-TW-NANO25-E.stl" scale="0.001 0.001 0.001" />
            </geometry>
            <material name="abs">
                <color rgba="0.4 0.4 0.4 1" />
            </material>
        </visual>
        <collision>
            <geometry>
                <mesh filename="package://ada_description/meshes/forque/ATI-9105-TW-NANO25-E.stl" scale="0.001 0.001 0.001" />
            </geometry>
        </collision>
        <inertial>
            <origin rpy="0 0 0" xyz="0.0124692 0.0137169 0.010558" />
            <mass value="0.0634" />
            <inertia ixx="0.001" ixy="0.001" ixz="0.001" iyy="0.001" iyz="0.001" izz="0.001" />
        </inertial>
    </link>
    <joint name="forque_to_forkHandle" type="fixed">
        <parent link="forkHandle" />
        <child link="forque" />
        <axis xyz="0 0 1" />
        <origin rpy="1.5707963267948966 1.0471975511965976 0" xyz="-0.00634 -0.222553 -0.004286" />
    </joint>
    <link name="forkTine">
        <visual>
            <geometry>
                <mesh filename="package://ada_description/meshes/forque/fork_tine.stl" scale="0.001 0.001 0.001" />
            </geometry>
            <material name="abs">
                <color rgba="0.4 0.4 0.4 1" />
            </material>
        </visual>
        <collision>
            <geometry>
                <mesh filename="package://ada_description/meshes/forque/fork_tine.stl" scale="0.001 0.001 0.001" />
            </geometry>
        </collision>
        <inertial>
            <origin rpy="0 0 0" xyz="0.013090 0.0180789 0.0445231" />
            <mass value="0.024" />
            <inertia ixx="0.001" ixy="0.001" ixz="0.001" iyy="0.001" iyz="0.001" izz="0.001" />
        </inertial>
    </link>
    <joint name="forkTine_to_forque" type="fixed">
        <parent link="forque" />
        <child link="forkTine" />
        <axis xyz="0 0 1" />
        <origin rpy="0 3.141592653589793 4.1887902047863905" xyz="-0.0054 0.008 0.093" />
    </joint>
    <link name="forkTip" />
    <joint name="forkTip_to_forkTine" type="fixed">
        <child link="forkTip" />
        <parent link="forkTine" />
        <origin rpy="3.141592653589793 0 0" xyz="0.0135 0.007 0" />
    </joint>
    <link name="FTSensor" />
    <joint name="EE_to_FTSensor" type="fixed">
        <child link="FTSensor" />
        <parent link="j2n6s200_end_effector" />
        <origin rpy="0 0 0" xyz="0.0 0.0 0.092" />
    </joint>
</robot>
